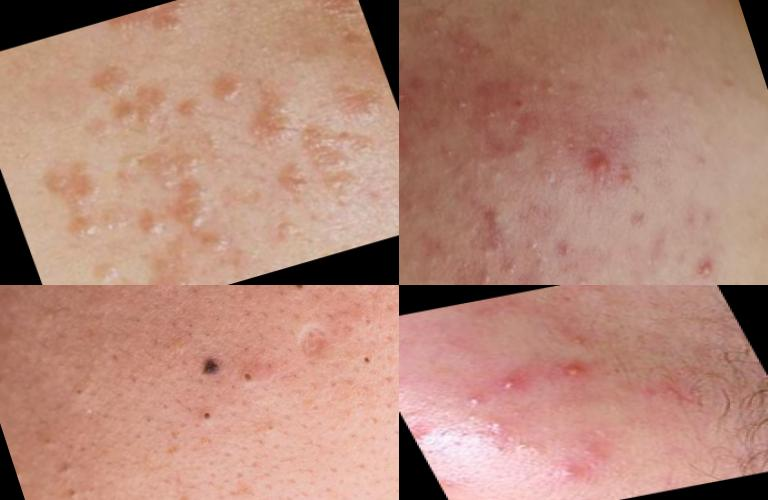acne_scars: (295, 319, 340, 378)
blackhead: (30, 423, 93, 500), (57, 356, 108, 416), (232, 350, 283, 401), (183, 394, 232, 444), (343, 338, 392, 382), (278, 286, 318, 310), (347, 286, 390, 303), (160, 286, 211, 298)
flat_wart: (242, 111, 400, 238), (160, 172, 245, 266), (228, 87, 317, 166), (26, 149, 122, 222), (102, 1, 200, 63), (70, 54, 154, 121), (102, 90, 177, 147), (199, 62, 260, 115), (75, 245, 143, 286), (60, 210, 109, 249), (132, 209, 173, 244)
papular: (567, 137, 630, 193), (473, 196, 527, 237)
purulent: (483, 361, 539, 401), (550, 346, 603, 388), (686, 239, 729, 286), (548, 455, 593, 493), (443, 383, 494, 416)
whitehead: (472, 425, 560, 470), (418, 1, 468, 44), (648, 19, 692, 60), (522, 230, 553, 272), (445, 90, 480, 123), (467, 150, 509, 176), (437, 56, 470, 87), (430, 71, 458, 107), (465, 261, 502, 286), (503, 140, 536, 167), (627, 85, 655, 116), (400, 185, 427, 217), (498, 253, 524, 281), (437, 140, 463, 166), (520, 49, 548, 73), (552, 57, 571, 83), (503, 115, 525, 137), (406, 245, 423, 271), (542, 79, 561, 99), (573, 271, 595, 286), (400, 82, 412, 108)
